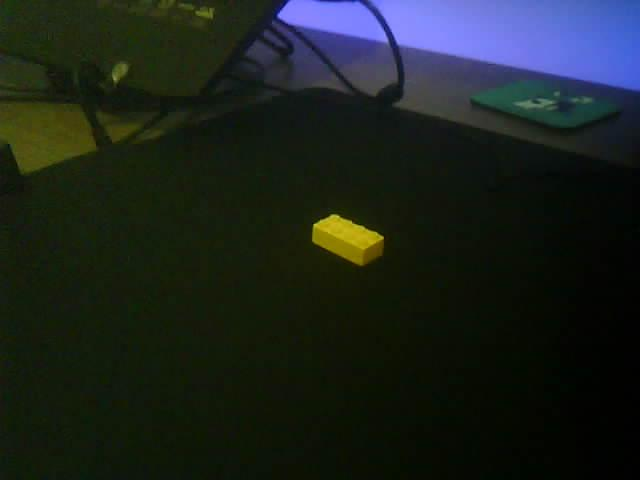lego: (311, 213, 385, 267)
